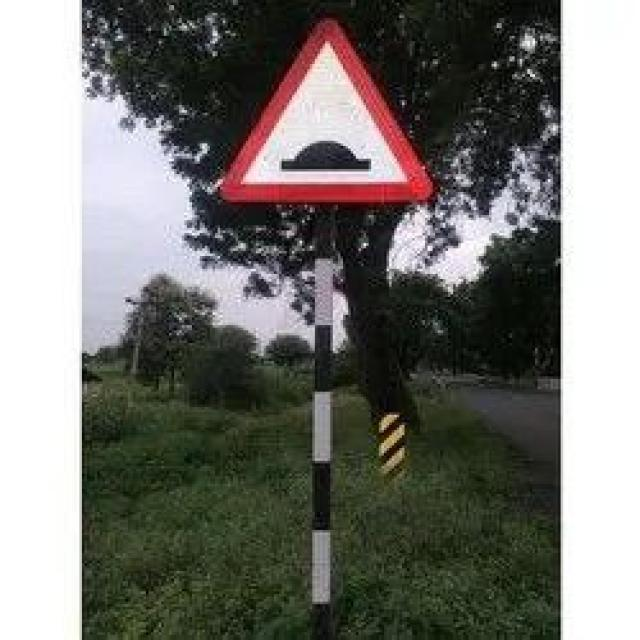Bump: (222, 21, 430, 198)
